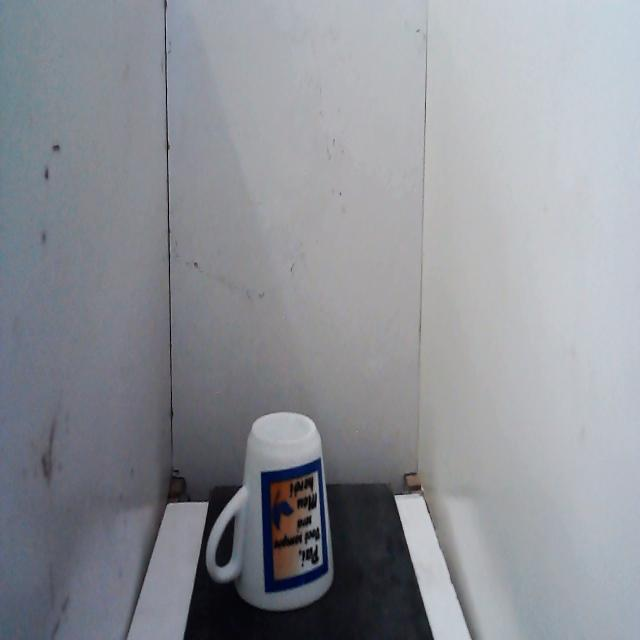vidro: (202, 403, 338, 624)
